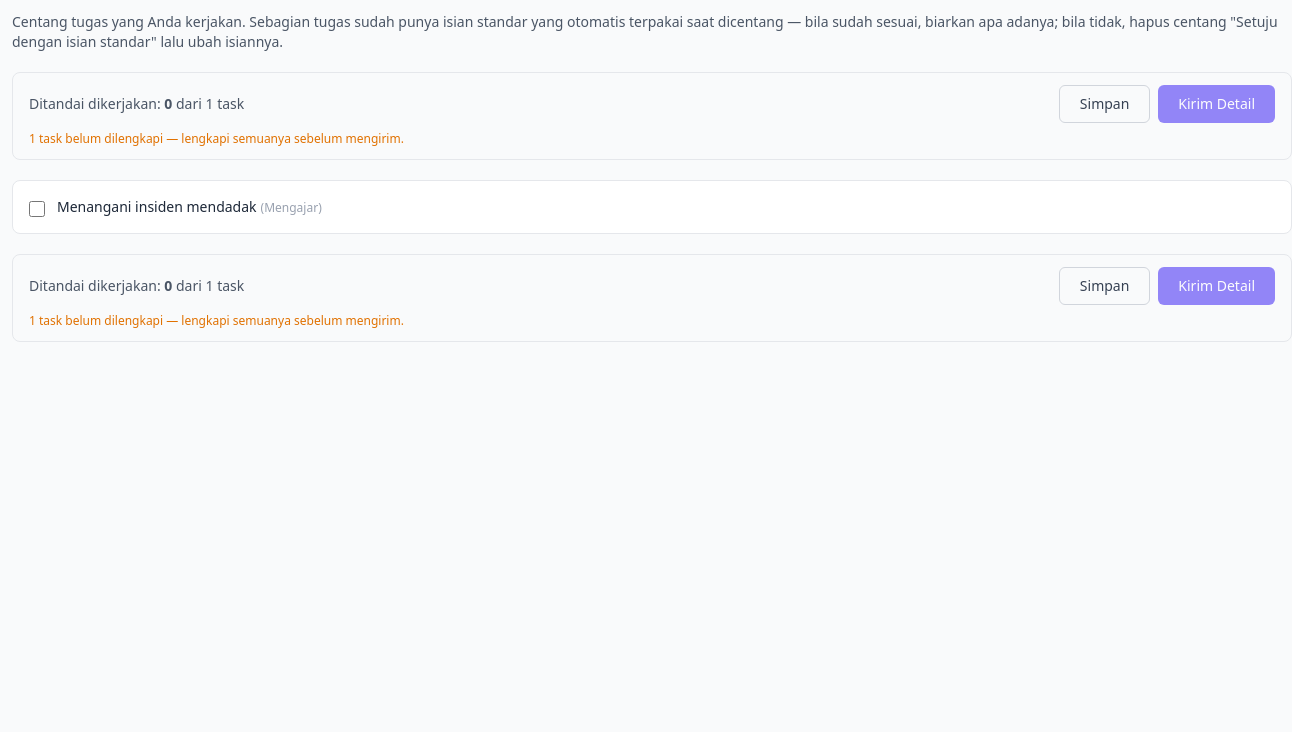
Test: DetailForm — selektor VA Type Tahap 3 hanya 3 opsi final (backlog #39) › 422 backend saat submit ditampilkan role=alert dengan pesan spesifik task Context-Dependent, tidak ditelan
The width and height of the screenshot is (1292, 732).
Click the checkbox labelled "Menangani insiden mendadak(Mengajar)" at (37,209), box [29,201,45,217]
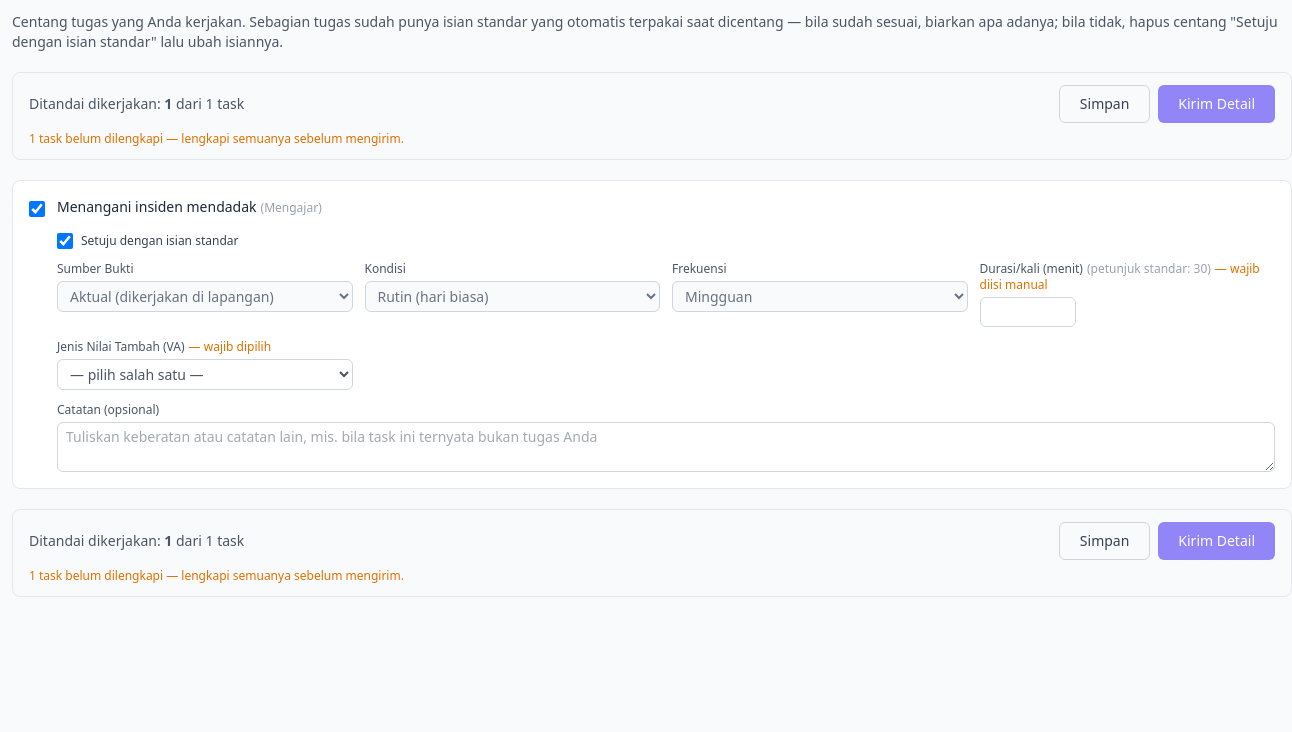
// "Setuju dengan isian standar" TETAP tercentang — sama seperti test di atas.
Select "VA-Core" in the dropdown labelled "Jenis Nilai Tambah (VA)— wajib dipilih" at (205,374), box [57,359,352,390]
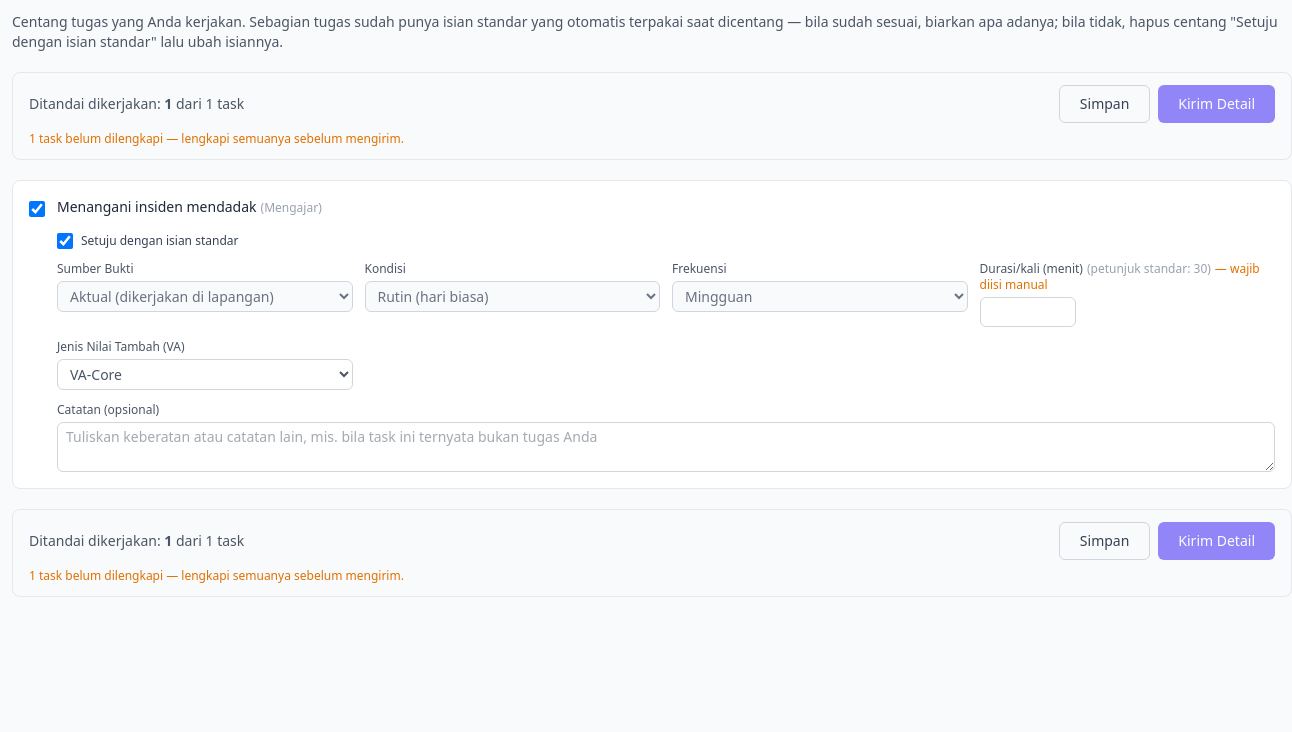
Type "30" into the number field labelled "Durasi/kali" at (1028,312), box [980,297,1076,327]
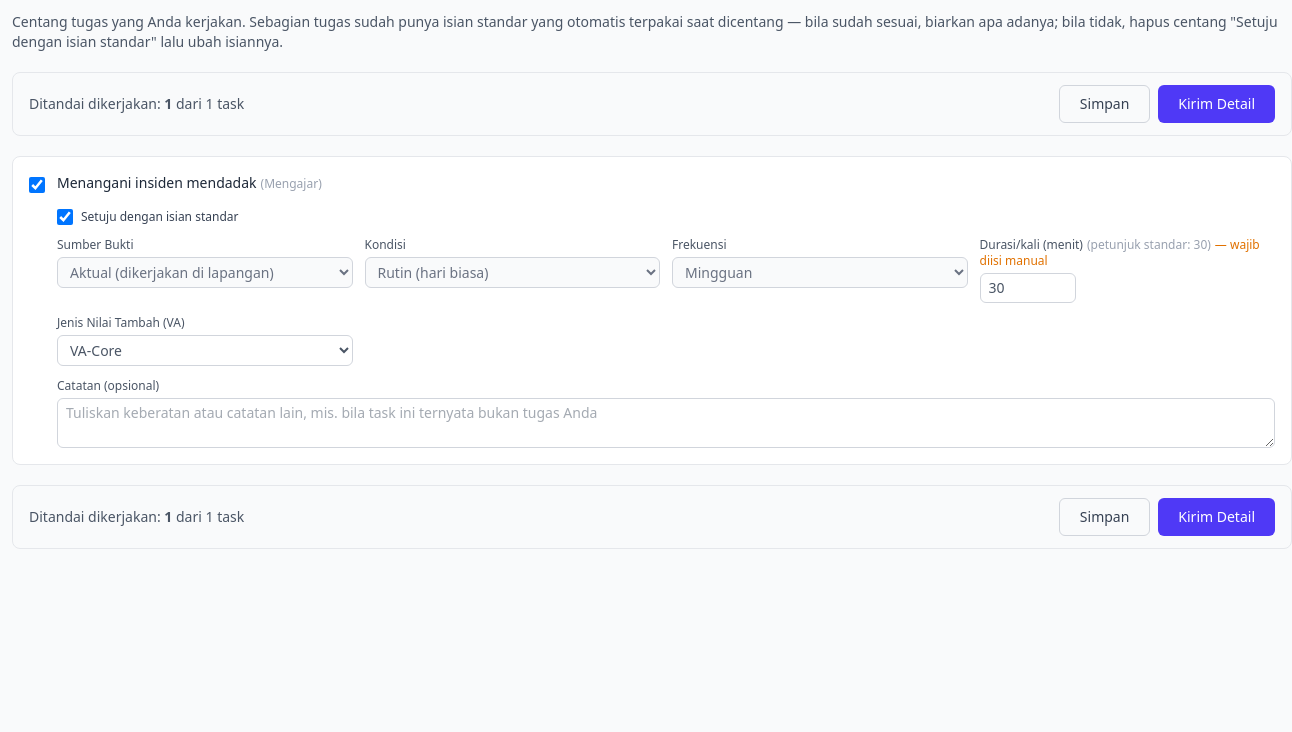
Click the 1st button "Kirim Detail" at (1217,104), box [1158,85,1275,123]
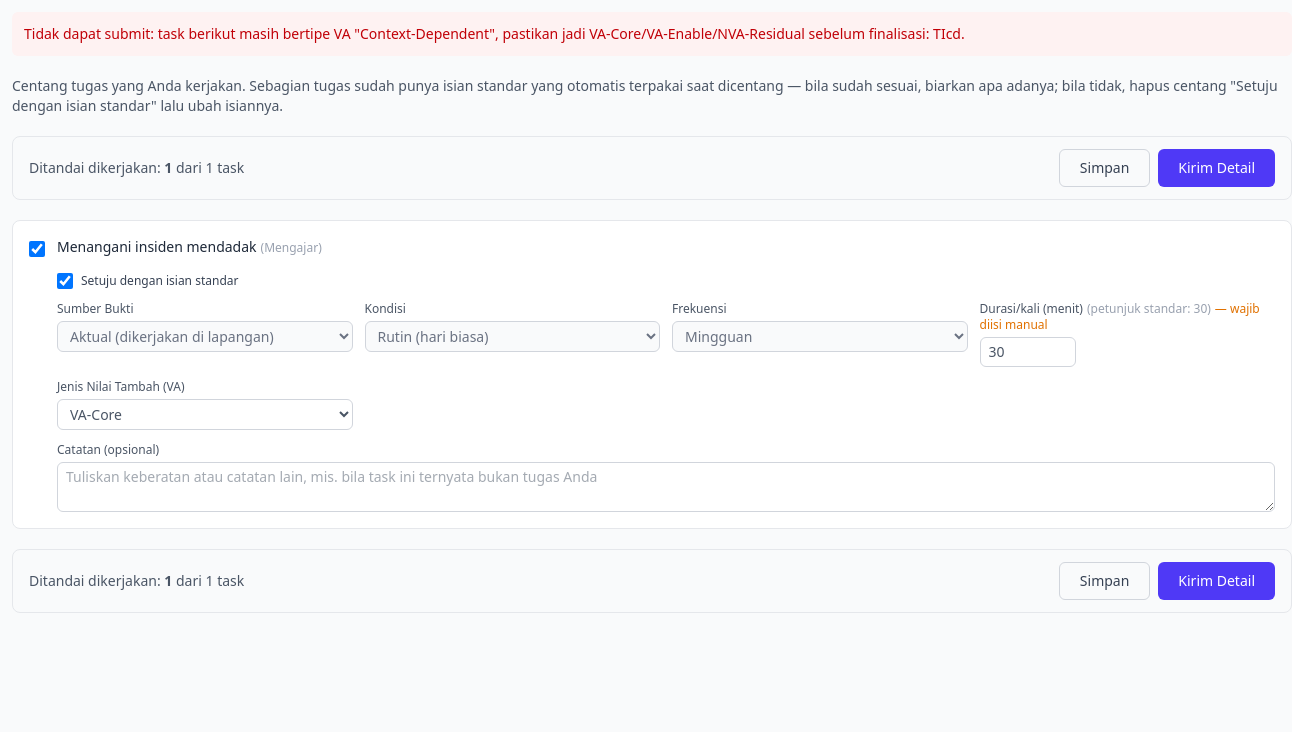
expect the message shows "Context-Dependent": met, box [24,24,965,43]
expect the message shows "TIcd": met, box [24,24,965,43]
